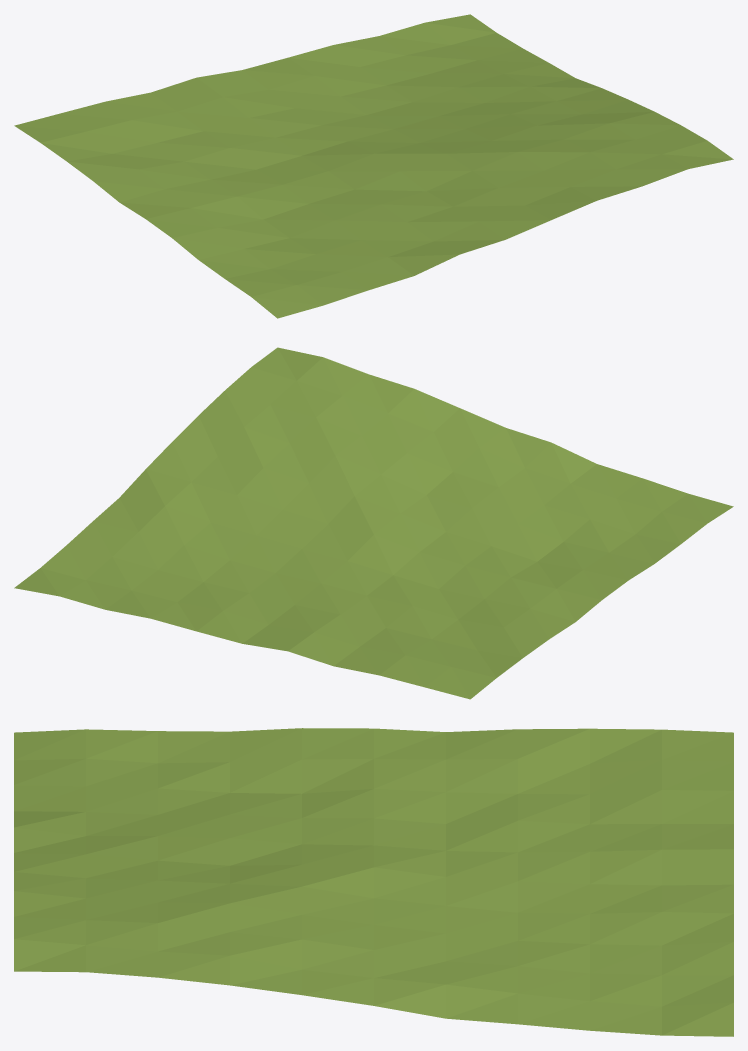
The model's file is terrain-plane_02-4.fbx.
3 renders of one model, top to bottom at view 1: azimuth 30°, elevation 25°; view 2: azimuth 150°, elevation 25°; view 3: azimuth 270°, elevation 25°, orthographic. The views are drawn at different scales.
Visible parts, largest first — view 1: terrain-plane_02-4; view 2: terrain-plane_02-4; view 3: terrain-plane_02-4.
Part boxes in pixels (x1,y1,x2,y2): terrain-plane_02-4: (14,14,733,318); terrain-plane_02-4: (14,347,733,699); terrain-plane_02-4: (14,728,733,1036).
Size of the model in its own units: 2000 by 209 by 2000.
